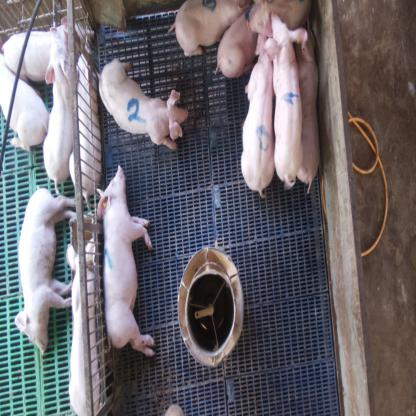1: (280, 91, 299, 106)
2: (125, 98, 141, 122)
N-A: (257, 125, 269, 150)
